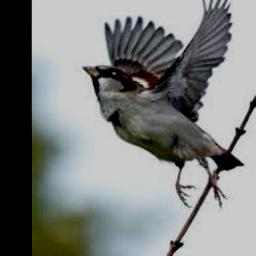Sparrow: (82, 0, 243, 206)
